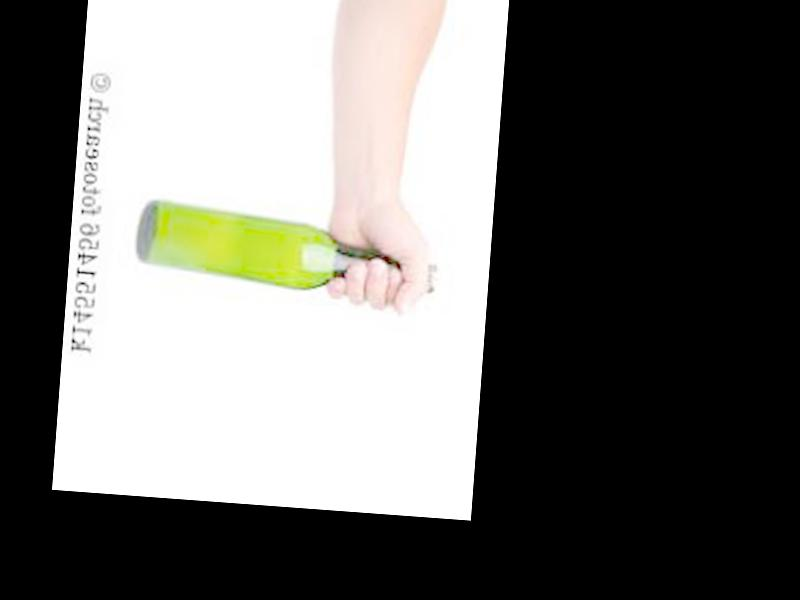Beer: (133, 197, 439, 299)
